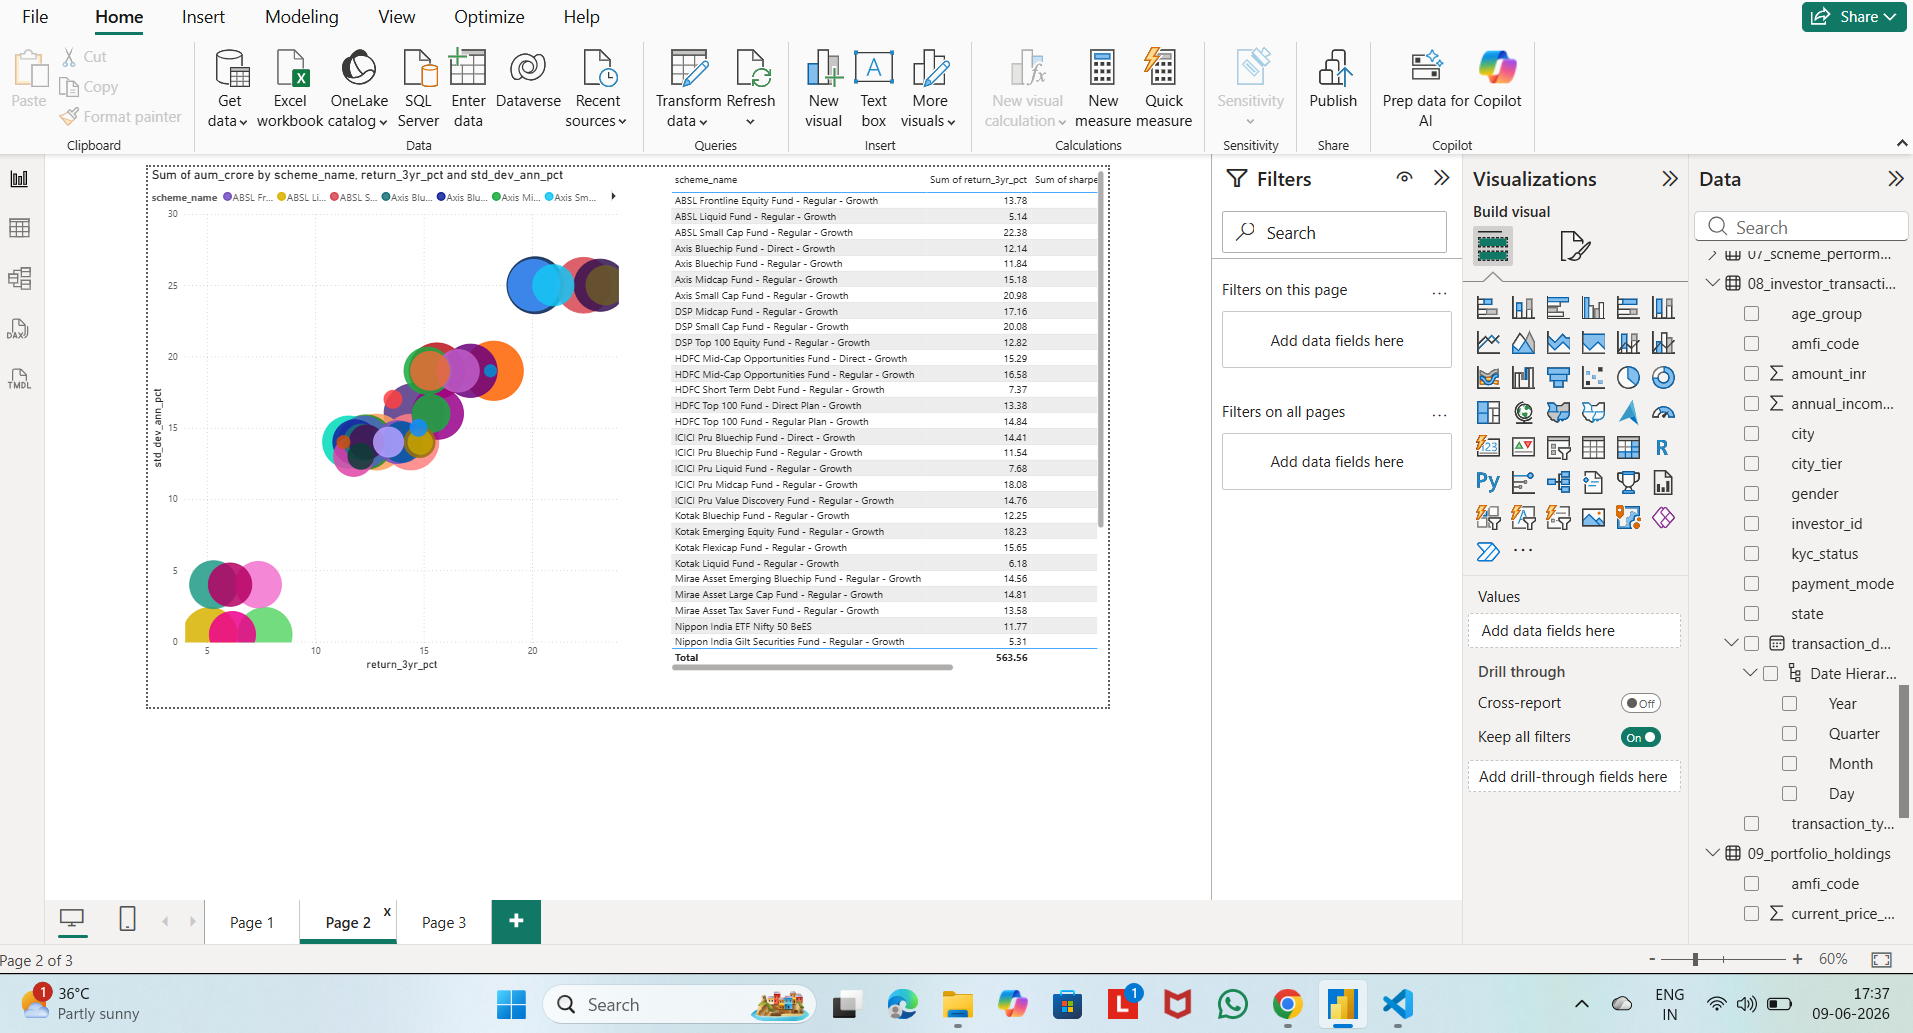

Layout of this report page (visuals, bound fields, positions):
{"tool":"powerbi","page":{"name":"page2_fund_performance.png","canvas":[1280,720],"ordinal":1},"visuals":[{"type":"tableEx","fields":{"Values":["07_scheme_performance.scheme_name","Sum(07_scheme_performance.return_3yr_pct)","Sum(07_scheme_performance.sharpe_ratio)","Sum(07_scheme_performance.alpha)","Sum(07_scheme_performance.expense_ratio_pct)"]},"box":[691.7,0,588.3,676.7],"z":1},{"type":"scatterChart","fields":{"X":["07_scheme_performance.return_3yr_pct"],"Y":["07_scheme_performance.std_dev_ann_pct"],"Size":["Sum(07_scheme_performance.aum_crore)"],"Series":["07_scheme_performance.scheme_name"]},"box":[0,0,640,676.7],"z":2}]}

Visuals, with their boxes on the page's 1280x720 design canvas (x1, y1, x2, y2). These are canvas units, not pixel positions in the 1913x1033 screenshot, which may show the page scaled, cropped or inside an application window:
tableEx - 07_scheme_performance.scheme_name x Sum(07_scheme_performance.return_3yr_pct): bbox=(692, 0, 1280, 677)
scatterChart - 07_scheme_performance.return_3yr_pct x 07_scheme_performance.std_dev_ann_pct: bbox=(0, 0, 640, 677)
